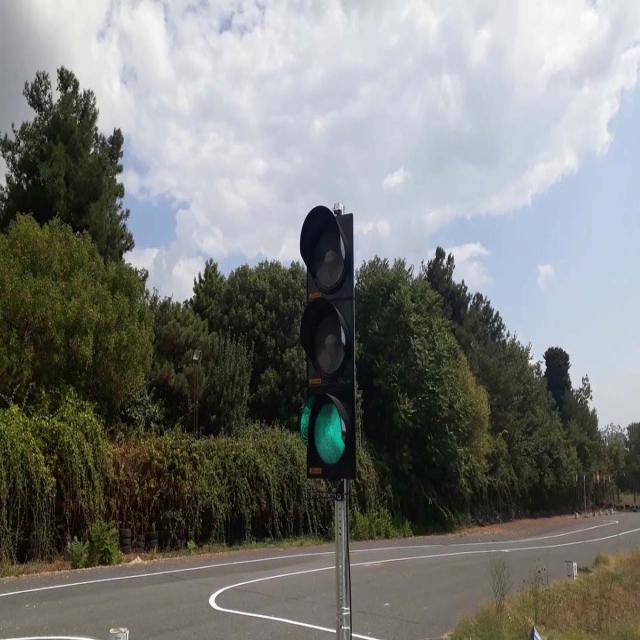yesil: (301, 208, 358, 480)
